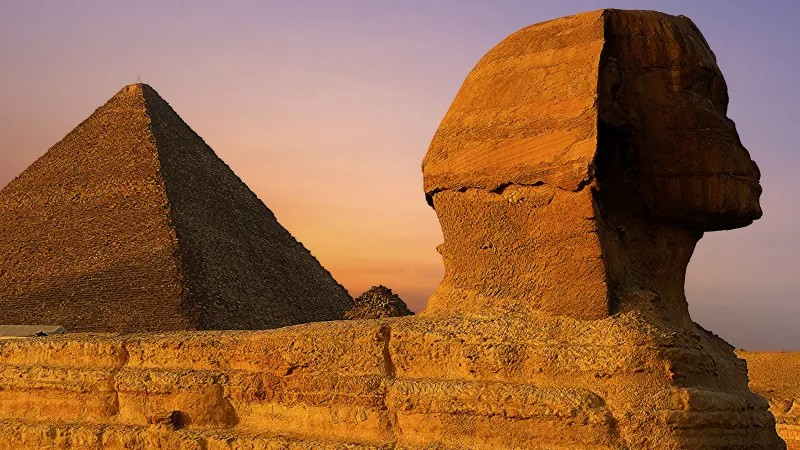Pyramid: (1, 84, 352, 332)
